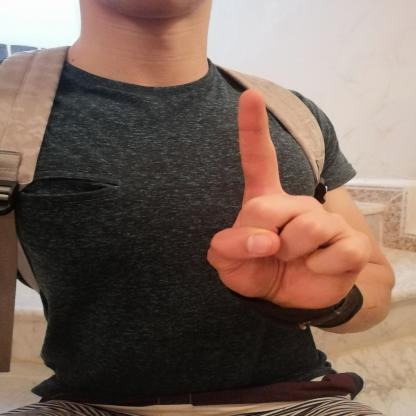BAA: (191, 79, 382, 320)
